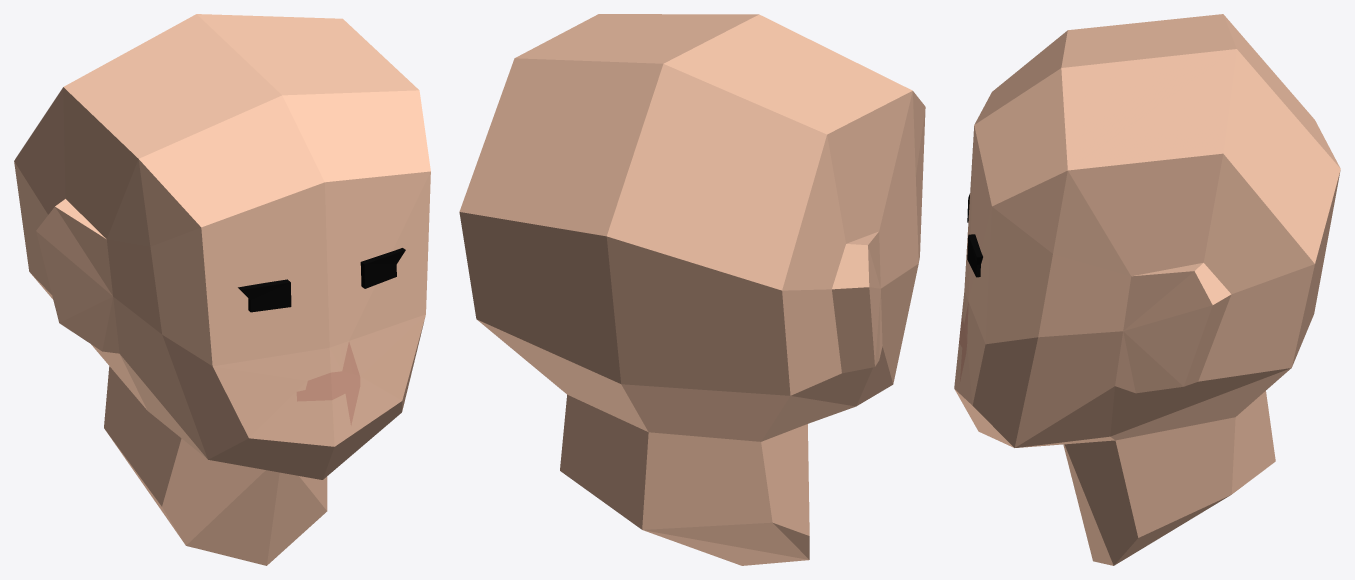
The model's file is Chr_Head_Female_03_Static.fbx.
The picture shows the model from 3 angles, left to right: view 1: azimuth 30°, elevation 25°; view 2: azimuth 150°, elevation 25°; view 3: azimuth 270°, elevation 25°; orthographic projection. The views are drawn at different scales.
Parts seen in each view (by area): view 1: Chr_Head_Female_03_Static; view 2: Chr_Head_Female_03_Static; view 3: Chr_Head_Female_03_Static.
Part boxes in pixels (x1,y1,x2,y2): Chr_Head_Female_03_Static: [14, 14, 430, 565]; Chr_Head_Female_03_Static: [459, 14, 925, 565]; Chr_Head_Female_03_Static: [954, 14, 1340, 565].
Bounding box in the file's own units: 0.2661 × 0.3693 × 0.2526.
